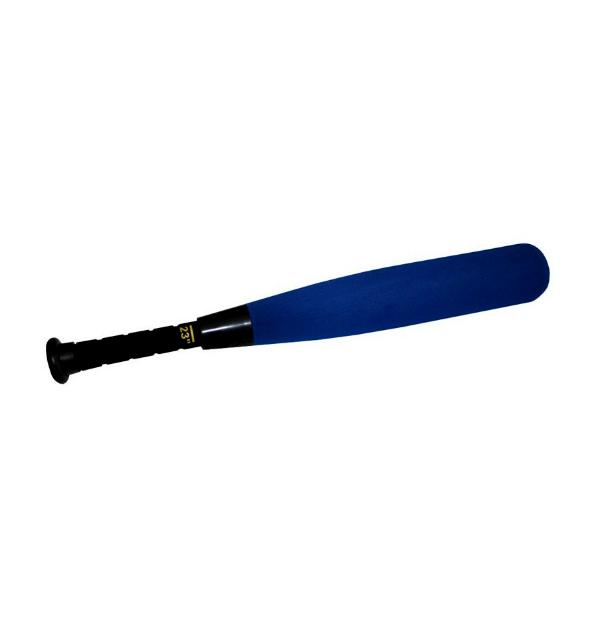baseball bat: (21, 192, 594, 370)
